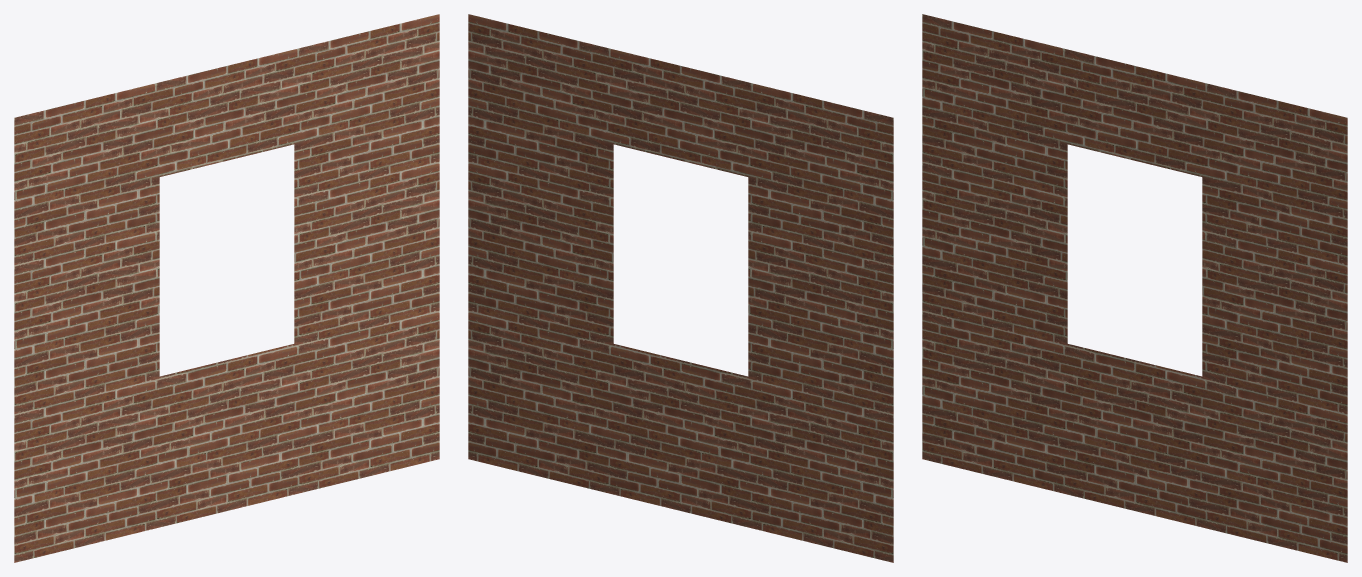
File: wallpaper_014.fbx
3 views of the same model, side by side, from view 1: azimuth 30°, elevation 25°; view 2: azimuth 150°, elevation 25°; view 3: azimuth 330°, elevation 25° (orthographic).
Parts seen in each view (by area): view 1: wallpaper_014; view 2: wallpaper_014; view 3: wallpaper_014.
Part boxes in pixels (box(x1,y1,x2,y2)): wallpaper_014: box(14, 14, 439, 562); wallpaper_014: box(468, 14, 893, 562); wallpaper_014: box(922, 14, 1347, 562).
Bounding box in the file's own units: 400 × 4.77e-05 × 400.
